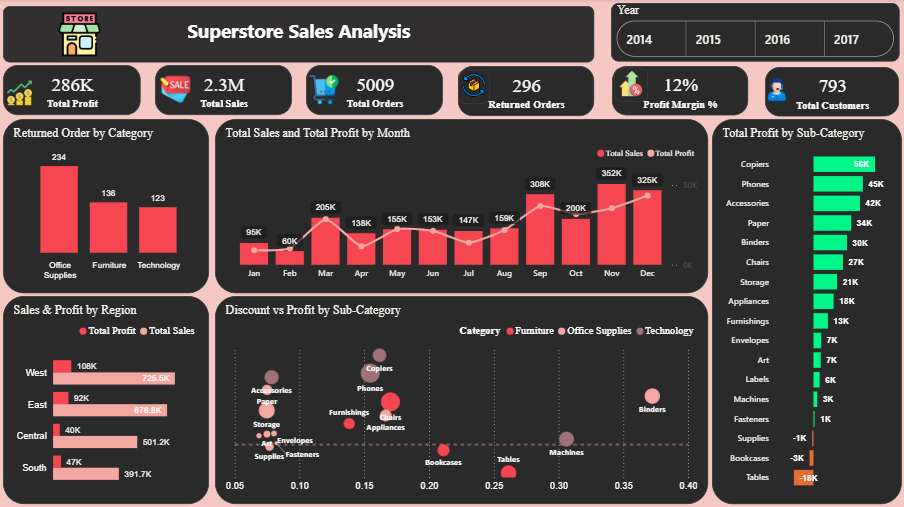

The page's visual inventory and layout, read from the dashboard file:
{"tool":"powerbi","page":{"name":"Page 1","canvas":[1280,720],"ordinal":0},"visuals":[{"type":"card","fields":{"Values":["Measures..Total Profit"]},"box":[4.6,93.8,195,70.8],"z":0,"group":"g7"},{"type":"card","fields":{"Values":["Measures..Returned Orders"]},"box":[649.8,94.3,192.7,70.7],"z":0,"group":"g3"},{"type":"card","fields":{"Values":["Measures..Profit Margin %"]},"box":[846.7,223.5,141.4,69.9],"z":0},{"type":"card","fields":{"Values":["Measures..Total Orders"]},"box":[433.4,93.8,194.2,70.7],"z":1000,"group":"g4"},{"type":"image","box":[649.2,100.5,44.6,47.7],"z":1000,"group":"g3"},{"type":"lineClusteredColumnComboChart","fields":{"Category":["Calendar.Month"],"Y":["Measures..Total Sales"],"Y2":["Measures..Total Profit"]},"box":[304.7,170.1,698.7,246.6],"z":1000},{"type":"advancedSlicerVisual","fields":{"Values":["Calendar.Year"]},"box":[866.2,6.2,409.2,83.1],"z":2000},{"type":"card","fields":{"Values":["Measures..Total Customer"]},"box":[1084.8,95.7,190,70],"z":2000,"group":"g1"},{"type":"card","fields":{"Values":["Measures..Profit Margin %"]},"box":[867.4,95.3,192.7,69.8],"z":3000,"group":"g2"},{"type":"clusteredBarChart","title":"Total Profit by Sub-Category","fields":{"Y":["Measures..Total Profit"],"Category":["Orders.Sub-Category"]},"box":[1008.8,170.6,269.1,545.6],"z":3000},{"type":"textbox","box":[4.6,9.2,838.5,80],"z":4000},{"type":"card","fields":{"Values":["Measures..Total Sales"]},"box":[219,93.8,194.2,70.7],"z":5000,"group":"g5"},{"type":"scatterChart","title":"Discount vs Profit by Sub-Category","fields":{"X":["Avg(Orders.Discount)"],"Y":["Measures..Total Profit"],"Category":["Orders.Sub-Category"],"Size":["Sum(Orders.Sales)"],"Series":["Orders.Category"]},"box":[304.7,420.9,698.7,294.8],"z":5000},{"type":"clusteredBarChart","title":"Sales & Profit by Region","fields":{"Y":["Measures..Total Profit","Measures..Total Sales"],"Category":["People.Region"]},"box":[4.3,420.9,292,294.8],"z":6000},{"type":"clusteredColumnChart","title":"Returned Order by Category","fields":{"Category":["Orders.Category"],"Y":["Measures..Returned Orders"]},"box":[4.3,170.1,292,246.6],"z":7000},{"type":"group","id":"g1","title":"Group 1","box":[1080,95.7,194.8,70],"z":8000},{"type":"group","id":"g2","title":"Group 2","box":[867.4,95.3,192.7,69.8],"z":9000},{"type":"group","id":"g3","title":"Group 3","box":[649.2,94.3,193.2,70.7],"z":10000},{"type":"group","id":"g4","title":"Group 4","box":[433.4,93.8,195,70],"z":11000},{"type":"group","id":"g5","title":"Group 5","box":[219,93.8,194.2,70.7],"z":12000},{"type":"group","id":"g6","title":"Group 6","box":[4.6,93.8,195,70.8],"z":13000},{"type":"group","id":"g7","title":"Group 7","box":[4.6,93.8,195,70.8],"z":13001,"group":"g6"},{"type":"image","box":[6.2,13.8,213.8,72.3],"z":14000},{"type":"image","box":[5,110.7,47.7,44.6],"z":14002,"group":"g7"},{"type":"image","box":[219,101.7,58.5,52.3],"z":14003,"group":"g5"},{"type":"image","box":[433.4,101.7,51.1,53.6],"z":14004,"group":"g4"},{"type":"image","box":[870.5,98.4,47.7,47.7],"z":14007,"group":"g2"},{"type":"image","box":[1080,103.4,41.5,49.2],"z":14008,"group":"g1"}]}

Visuals, with their boxes in screenshot pixels (x1, y1, x2, y2), scaled from the page's 1280x720 canvas onto the 904x507 screenshot:
card - Measures..Total Profit: left=3, top=66, right=141, bottom=116
card - Measures..Returned Orders: left=459, top=66, right=595, bottom=116
card - Measures..Profit Margin %: left=598, top=157, right=698, bottom=207
card - Measures..Total Orders: left=306, top=66, right=443, bottom=116
image: left=458, top=71, right=490, bottom=104
lineClusteredColumnComboChart - Calendar.Month x Measures..Total Sales: left=215, top=120, right=709, bottom=293
advancedSlicerVisual - Calendar.Year: left=612, top=4, right=901, bottom=63
card - Measures..Total Customer: left=766, top=67, right=900, bottom=117
card - Measures..Profit Margin %: left=613, top=67, right=749, bottom=116
"Total Profit by Sub-Category" clusteredBarChart: left=712, top=120, right=903, bottom=504
textbox: left=3, top=6, right=595, bottom=63
card - Measures..Total Sales: left=155, top=66, right=292, bottom=116
"Discount vs Profit by Sub-Category" scatterChart: left=215, top=296, right=709, bottom=504
"Sales & Profit by Region" clusteredBarChart: left=3, top=296, right=209, bottom=504
"Returned Order by Category" clusteredColumnChart: left=3, top=120, right=209, bottom=293
"Group 1" group: left=763, top=67, right=900, bottom=117
"Group 2" group: left=613, top=67, right=749, bottom=116
"Group 3" group: left=458, top=66, right=595, bottom=116
"Group 4" group: left=306, top=66, right=444, bottom=115
"Group 5" group: left=155, top=66, right=292, bottom=116
"Group 6" group: left=3, top=66, right=141, bottom=116
"Group 7" group: left=3, top=66, right=141, bottom=116
image: left=4, top=10, right=155, bottom=61
image: left=4, top=78, right=37, bottom=109
image: left=155, top=72, right=196, bottom=108
image: left=306, top=72, right=342, bottom=109
image: left=615, top=69, right=648, bottom=103
image: left=763, top=73, right=792, bottom=107
